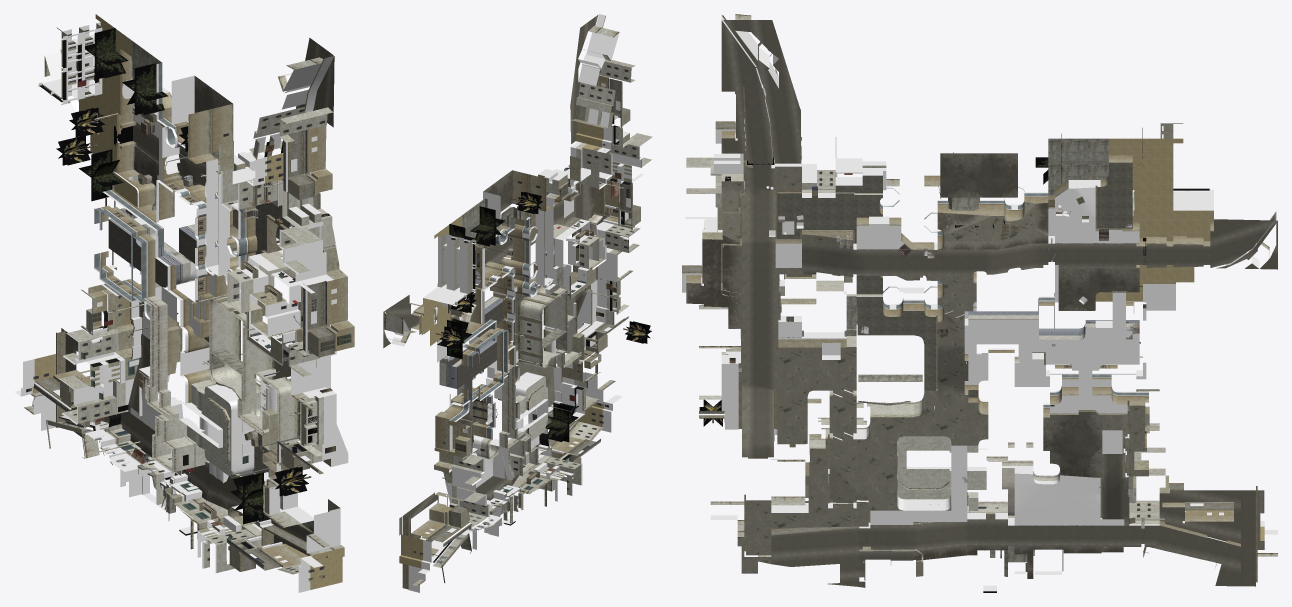
File: outpost.glb
The picture shows the model from 3 angles, left to right: view 1: azimuth 30°, elevation 25°; view 2: azimuth 150°, elevation 25°; view 3: azimuth 270°, elevation 25°; orthographic projection. The views are drawn at different scales.
Visible parts, largest first — view 1: Object_17, Object_7, Object_18, Object_4, Object_3, Object_42, Object_8, Object_6, Object_15, Object_87, Object_98, Object_5 (+24 smaller); view 2: Object_17, Object_7, Object_4, Object_15, Object_18, Object_3, Object_8, Object_6, Object_16, Object_42, Object_29, Object_87 (+19 smaller); view 3: Object_3, Object_17, Object_11, Object_10, Object_14, Object_12, Object_8, Object_7, Object_29, Object_98, Object_94, Object_18 (+13 smaller).
Part boxes in pixels (x1,y1,x2,y2): Object_17: (14,22,348,592); Object_7: (60,49,257,402); Object_18: (34,64,323,573); Object_4: (203,296,322,574); Object_3: (61,38,334,555); Object_42: (79,28,263,524); Object_8: (32,14,344,589); Object_6: (53,125,354,567); Object_15: (63,106,327,568); Object_87: (35,120,335,571); Object_98: (151,198,334,475); Object_5: (102,295,182,472); Object_17: (391,14,643,592); Object_7: (385,170,551,437); Object_4: (508,285,614,440); Object_15: (454,61,639,525); Object_18: (442,82,652,543); Object_3: (383,15,598,541); Object_8: (399,122,603,568); Object_6: (411,75,619,537); Object_16: (384,26,640,586); Object_42: (437,206,578,442); Object_29: (462,199,570,523); Object_87: (430,78,640,541); Object_3: (721,20,1277,587); Object_17: (682,16,1277,591); Object_11: (721,166,1148,576); Object_10: (940,153,1139,477); Object_14: (777,162,1132,397); Object_12: (686,202,1156,578); Object_8: (801,138,1264,540); Object_7: (856,155,1274,417); Object_29: (846,138,1144,576); Object_98: (699,191,1032,512); Object_94: (721,15,1257,582); Object_18: (686,137,1165,580).
Size of the model in its own units: 0.3879 by 2.5 by 2.34.
100 materials, 97 textured.
